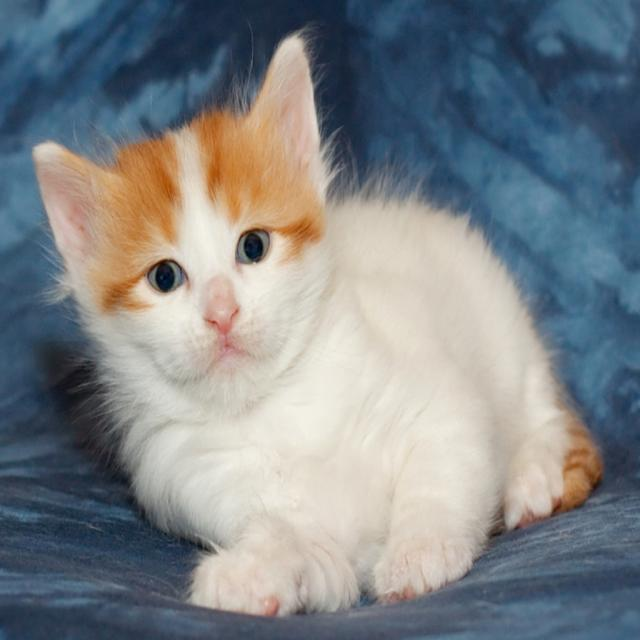Cat: (28, 15, 603, 618)
